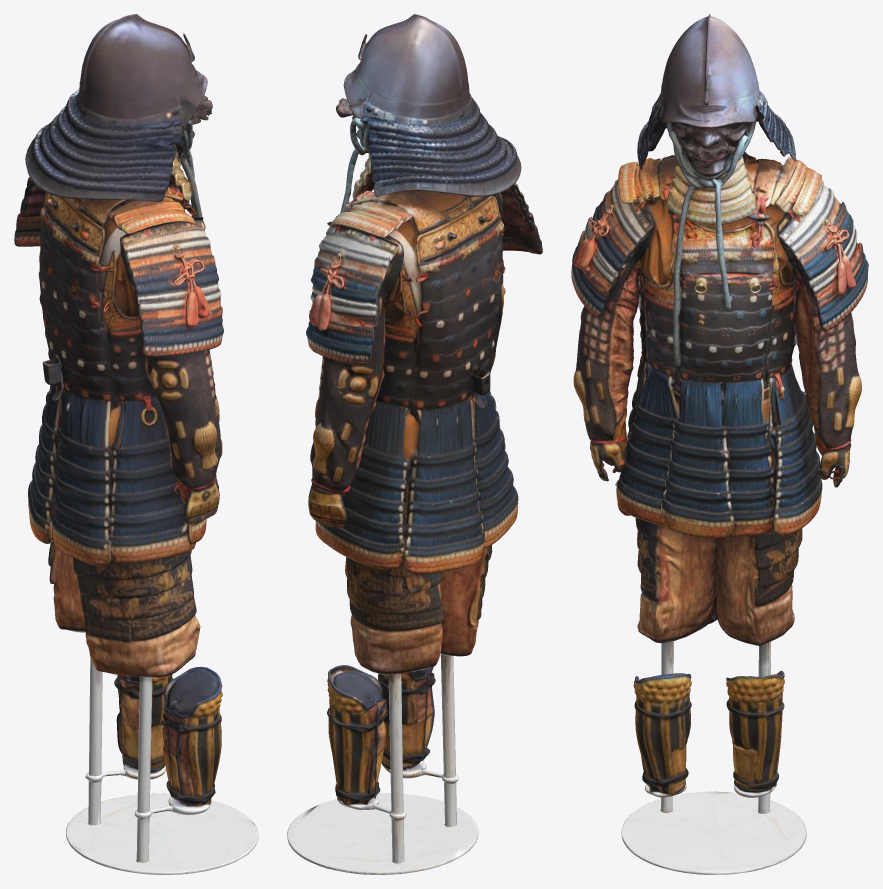
Rendered from samurai_opt.glb.
3 views of the same model, side by side, from view 1: azimuth 30°, elevation 25°; view 2: azimuth 150°, elevation 25°; view 3: azimuth 270°, elevation 25° (orthographic). The views are drawn at different scales.
Visible parts, largest first — view 1: Object_2; view 2: Object_2; view 3: Object_2.
Part boxes in pixels (x1=…): Object_2: x1=14, y1=14, x2=258, y2=874; Object_2: x1=287, y1=14, x2=542, y2=874; Object_2: x1=571, y1=14, x2=868, y2=874.
Size of the model in its own units: 1.56e+07 by 5.96e+07 by 2e+07.
1 material, 1 textured.
